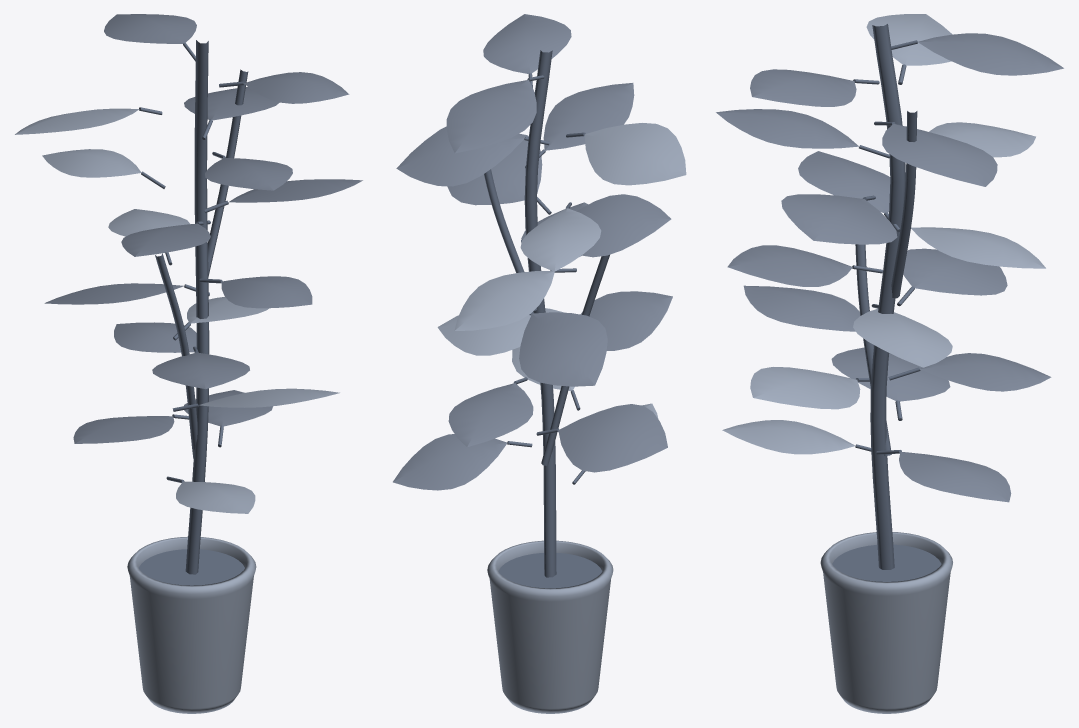
The model's file is plant.glb.
3 renders of one model, left to right at view 1: azimuth 30°, elevation 25°; view 2: azimuth 150°, elevation 25°; view 3: azimuth 270°, elevation 25°, orthographic. The views are drawn at different scales.
Parts seen in each view (by area): view 1: light, body, soft, dark, glass; view 2: light, body, soft, dark, glass; view 3: light, soft, body, dark, glass.
Part boxes in pixels (<box>): light: <box>44,14,362,443</box>; body: <box>127,536,256,713</box>; soft: <box>15,108,339,513</box>; dark: <box>139,40,248,574</box>; glass: <box>138,549,244,585</box>; light: <box>393,14,672,490</box>; body: <box>487,540,613,713</box>; soft: <box>437,123,686,418</box>; dark: <box>484,50,609,577</box>; glass: <box>498,553,602,588</box>; light: <box>716,33,1063,502</box>; soft: <box>722,14,1045,454</box>; body: <box>820,532,952,713</box>; dark: <box>852,24,920,569</box>; glass: <box>832,544,941,581</box>.
Size of the model in its own units: 0.75 by 1.6 by 0.75.
